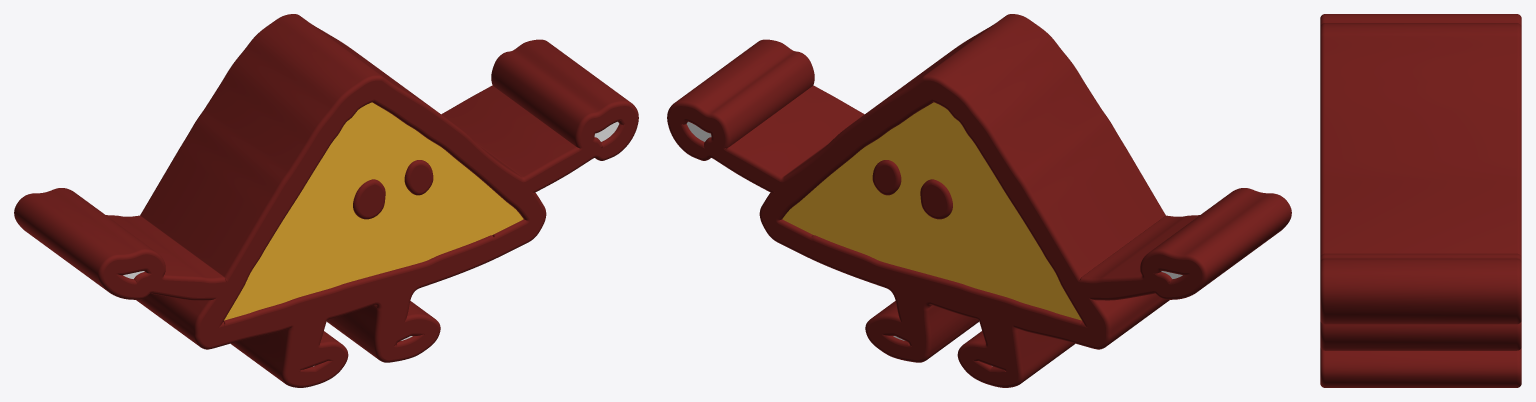
File: tongullkun.glb
3 views of the same model, side by side, from view 1: azimuth 30°, elevation 25°; view 2: azimuth 150°, elevation 25°; view 3: azimuth 270°, elevation 25° (orthographic). The views are drawn at different scales.
Visible parts, largest first — view 1: Curve.001, Curve.004, Curve.010, Curve.011; view 2: Curve.001, Curve.004, Curve.010, Curve.011; view 3: Curve.001.
Part boxes in pixels (bbox=[...]): Curve.001: bbox=[14, 14, 638, 387]; Curve.004: bbox=[224, 102, 523, 320]; Curve.010: bbox=[353, 179, 385, 219]; Curve.011: bbox=[404, 160, 433, 195]; Curve.001: bbox=[667, 14, 1291, 387]; Curve.004: bbox=[782, 102, 1081, 320]; Curve.010: bbox=[920, 179, 952, 219]; Curve.011: bbox=[872, 160, 901, 195]; Curve.001: bbox=[1320, 14, 1521, 387].
Size of the model in its own units: 0.1501 by 0.0784 by 0.042.
